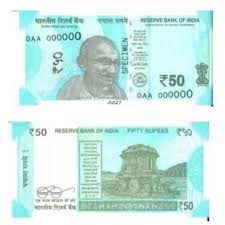fifty: (23, 27, 198, 94)
